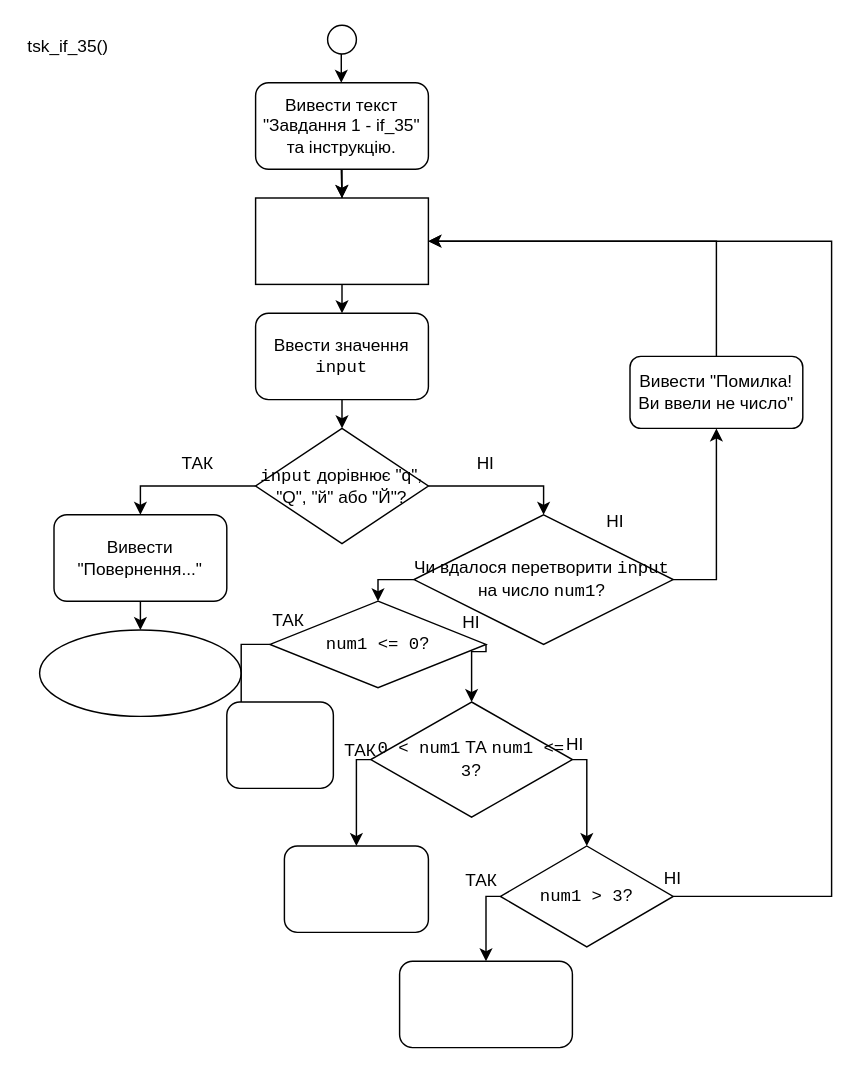
Image size: 868x1073. Some labels were removed from this diagram. The shapes that lost their labels are listed below. From the top down, each one's centre as x and y in pixels, then its label:
[341,240]: Початок безкінечного циклу while (true)
[139,672]: Кінець функції (переривання циклу) ( break )
[279,744]: Обчислити та вивести -(num1^2)
[355,888]: Обчислити та вивести num1
[485,1004]: Обчислити та вивести 9 - num1
